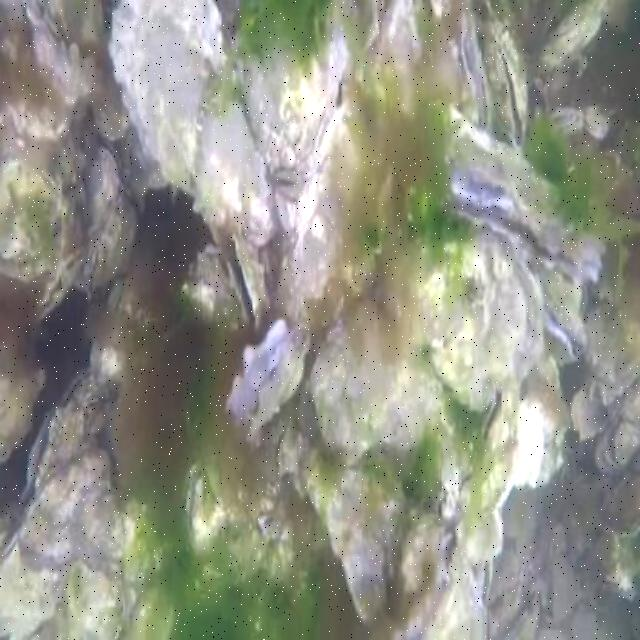Oyster-Closed: (110, 0, 230, 191), (415, 234, 546, 407), (313, 293, 439, 459), (287, 99, 378, 322), (310, 461, 405, 623), (194, 88, 276, 244), (21, 446, 115, 563), (0, 528, 72, 638), (27, 8, 103, 106), (586, 305, 638, 396), (0, 365, 46, 460), (541, 0, 606, 66), (67, 566, 126, 638), (398, 514, 454, 589), (185, 456, 226, 557), (84, 137, 125, 233), (458, 14, 491, 131), (75, 486, 124, 561), (42, 0, 108, 52), (540, 267, 588, 318), (570, 389, 607, 440), (276, 419, 302, 478), (613, 419, 638, 463), (584, 103, 609, 141), (553, 108, 584, 130), (457, 471, 473, 512)
Oyster-Open: (443, 105, 606, 277), (21, 364, 125, 510), (226, 319, 314, 447), (486, 23, 527, 148), (226, 236, 270, 335), (38, 249, 87, 322), (542, 288, 588, 358), (478, 392, 514, 457), (474, 558, 496, 604), (436, 487, 456, 524)
